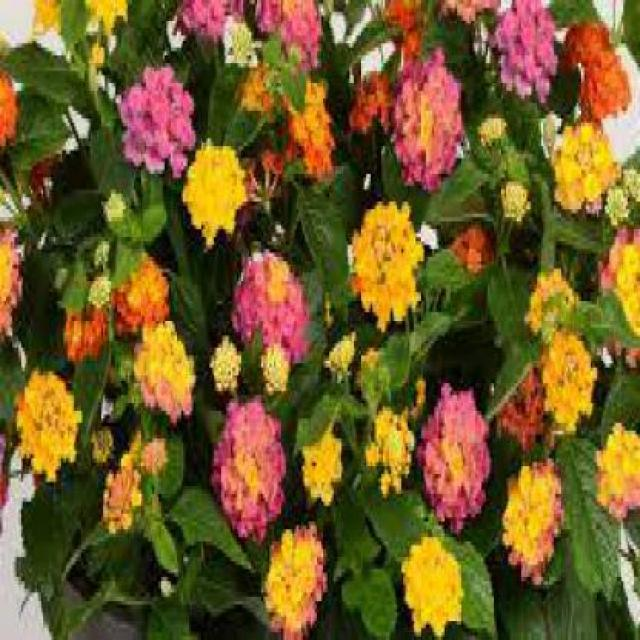flower: (420, 383, 492, 529), (353, 195, 425, 331), (235, 245, 316, 363), (387, 58, 465, 179), (220, 407, 286, 538), (177, 138, 249, 245), (19, 365, 83, 481), (262, 523, 327, 631), (125, 72, 198, 162), (134, 320, 201, 418), (504, 460, 564, 568), (116, 251, 182, 349), (541, 330, 599, 441), (399, 533, 472, 621), (550, 120, 616, 214), (492, 10, 558, 101), (284, 71, 339, 178), (94, 442, 154, 533), (522, 260, 580, 346), (292, 413, 342, 504), (366, 393, 414, 484), (204, 326, 250, 397), (266, 340, 300, 398), (321, 328, 356, 380)
